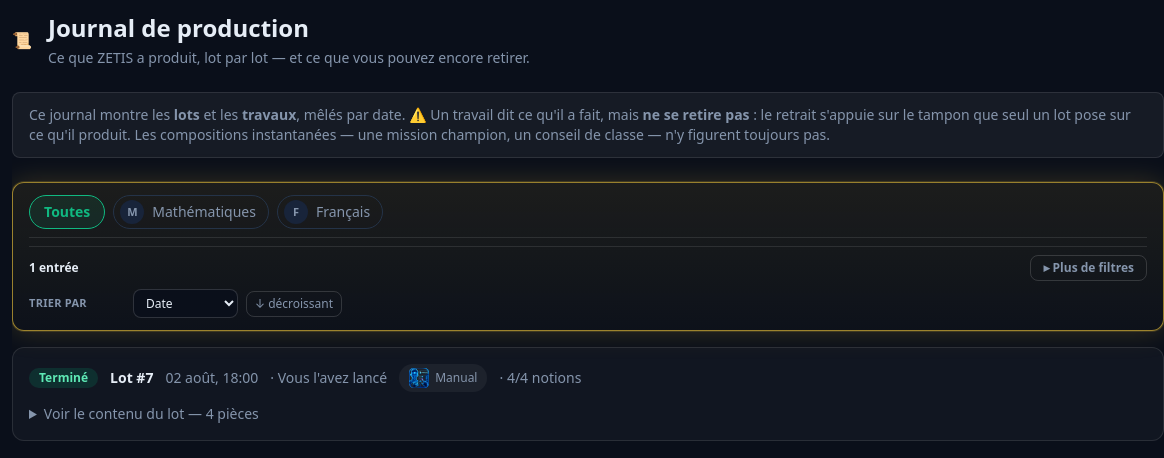
Test case: Journal — le tri › 🔒 signale qu'il n'est plus chronologique, et se défait d'un GESTE
Expected: the text "Lot #7" is shown, [110,368,154,388]
Expected: the text "n'est plus dans l'ordre chronologique" is not shown
Select "Matière" in the dropdown named "Trier par" at coordinates (186, 304), box [133,289,238,318]
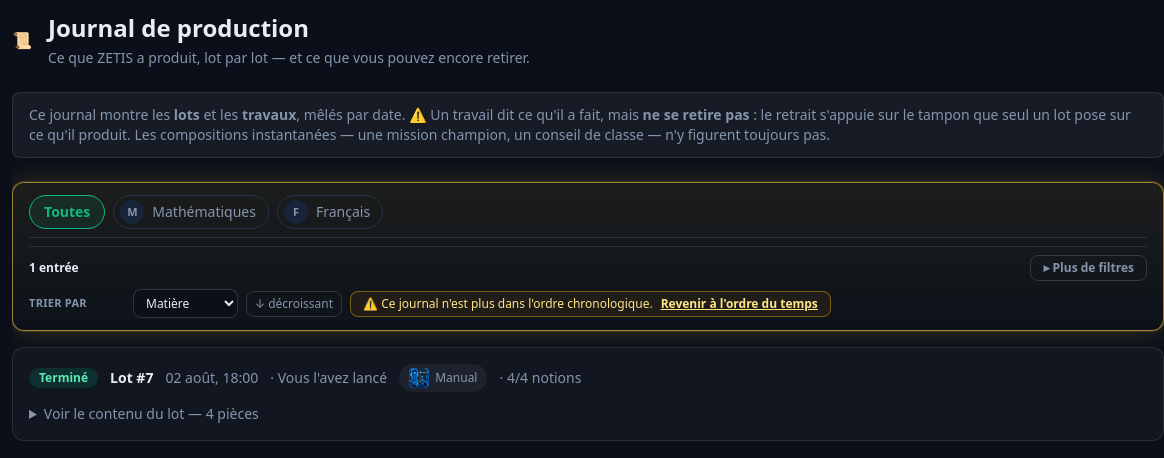
Expected: the text "n'est plus dans l'ordre chronologique" is shown, [363,294,653,312]
Click the button "Revenir à l'ordre du temps".
click(739, 304)  # box [661,296,818,312]
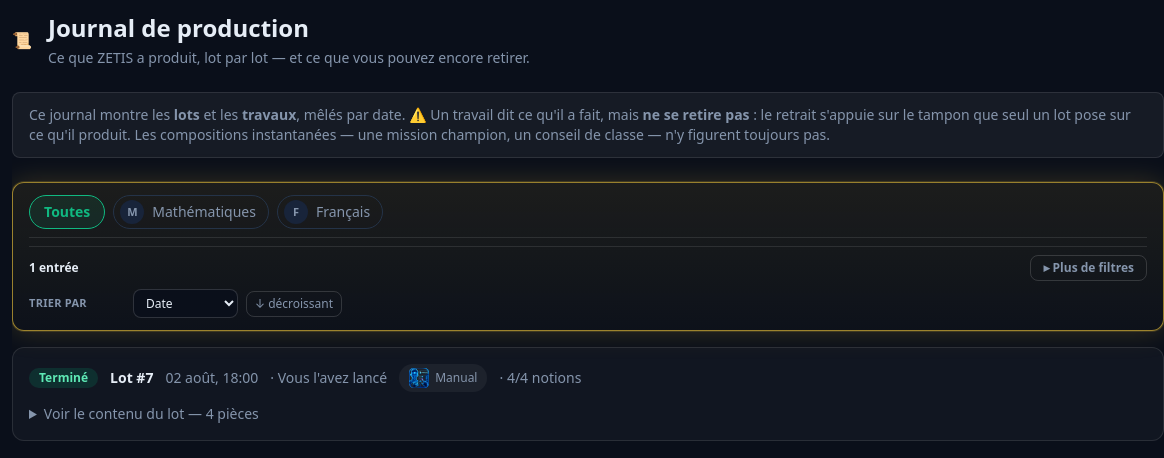
Expected: the text "n'est plus dans l'ordre chronologique" is gone
